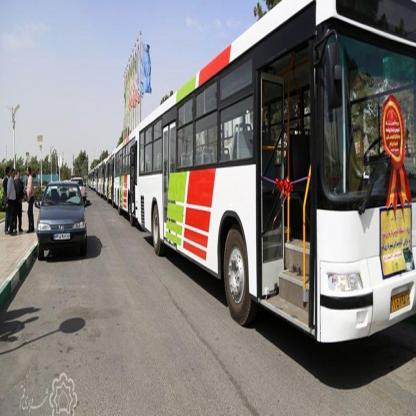Bus: (136, 0, 416, 367), (113, 136, 139, 226), (85, 156, 108, 192)
Car: (36, 181, 87, 252)
